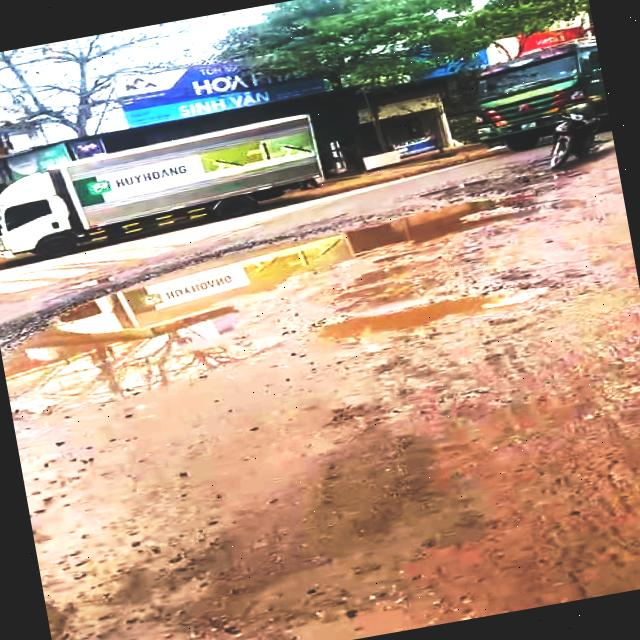pothole: (0, 177, 590, 422)
